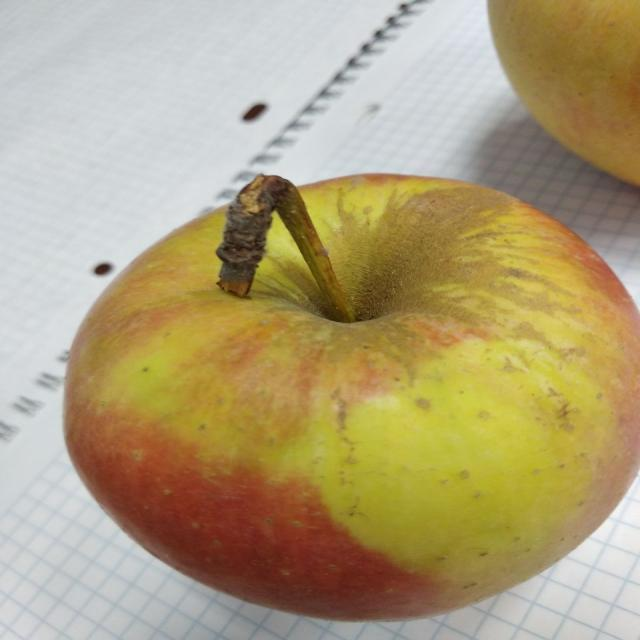Fresh Apple: (83, 173, 640, 613)
